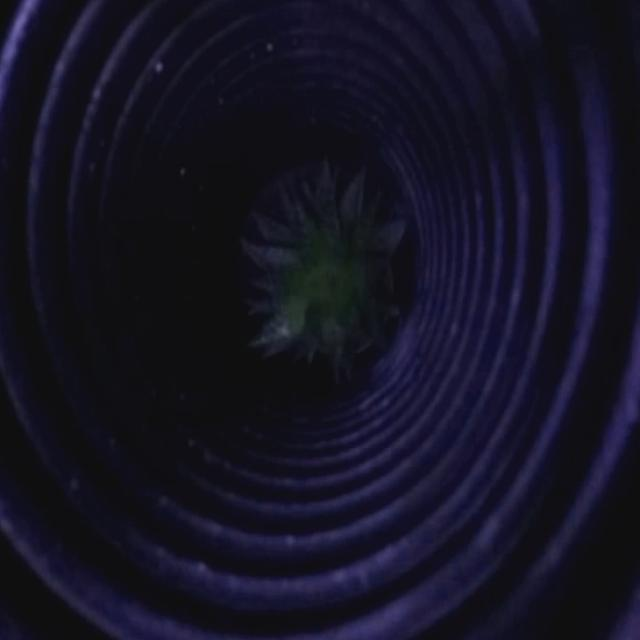leaf: (251, 166, 403, 363)
